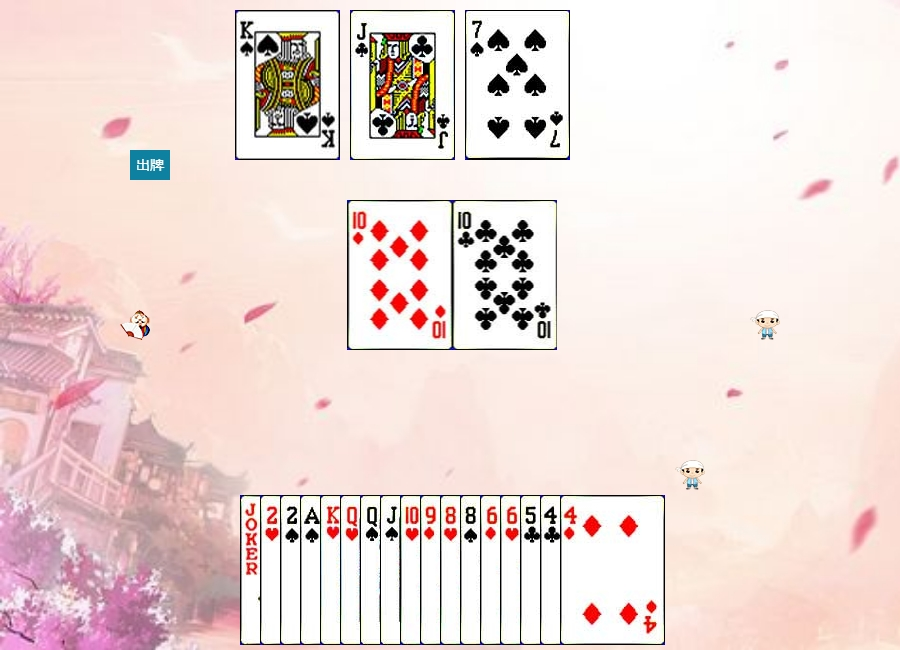10~1: (348, 200, 453, 350)
10~2: (453, 200, 558, 350)
10~3: (400, 495, 505, 645)
11~2: (350, 10, 455, 160)
11~4: (380, 495, 485, 645)
12~3: (340, 495, 445, 645)
12~4: (360, 495, 465, 645)
13~3: (320, 495, 425, 645)
13~4: (235, 10, 340, 160)
14~4: (300, 495, 405, 645)
15~3: (260, 495, 365, 645)
15~4: (280, 495, 385, 645)
18~4: (240, 495, 345, 645)
4~1: (560, 495, 665, 645)
4~2: (540, 495, 645, 645)
5~2: (520, 495, 625, 645)
6~1: (480, 495, 585, 645)
6~3: (500, 495, 605, 645)
7~4: (465, 10, 570, 160)
8~3: (440, 495, 545, 645)
8~4: (460, 495, 565, 645)
9~1: (420, 495, 525, 645)
